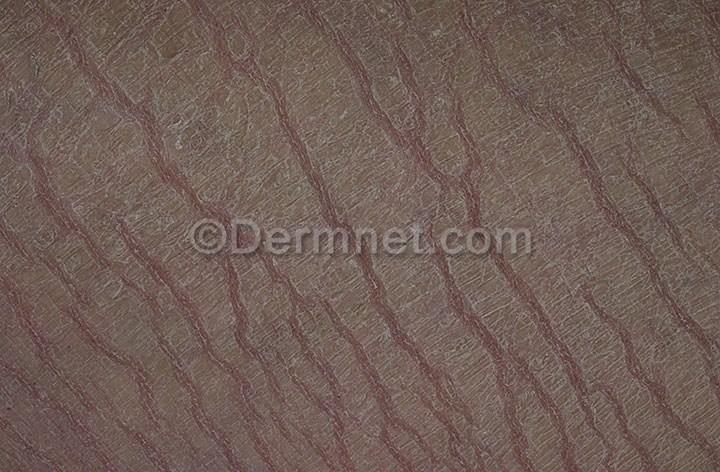xerosis 3: (0, 1, 719, 472)
